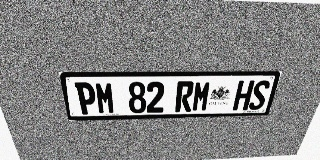2: (147, 81, 165, 113)
8: (128, 82, 146, 113)
H: (232, 80, 255, 110)
M: (94, 82, 116, 114), (191, 81, 212, 112)
P: (74, 82, 98, 115)
R: (175, 81, 194, 112)
S: (248, 80, 271, 110)
